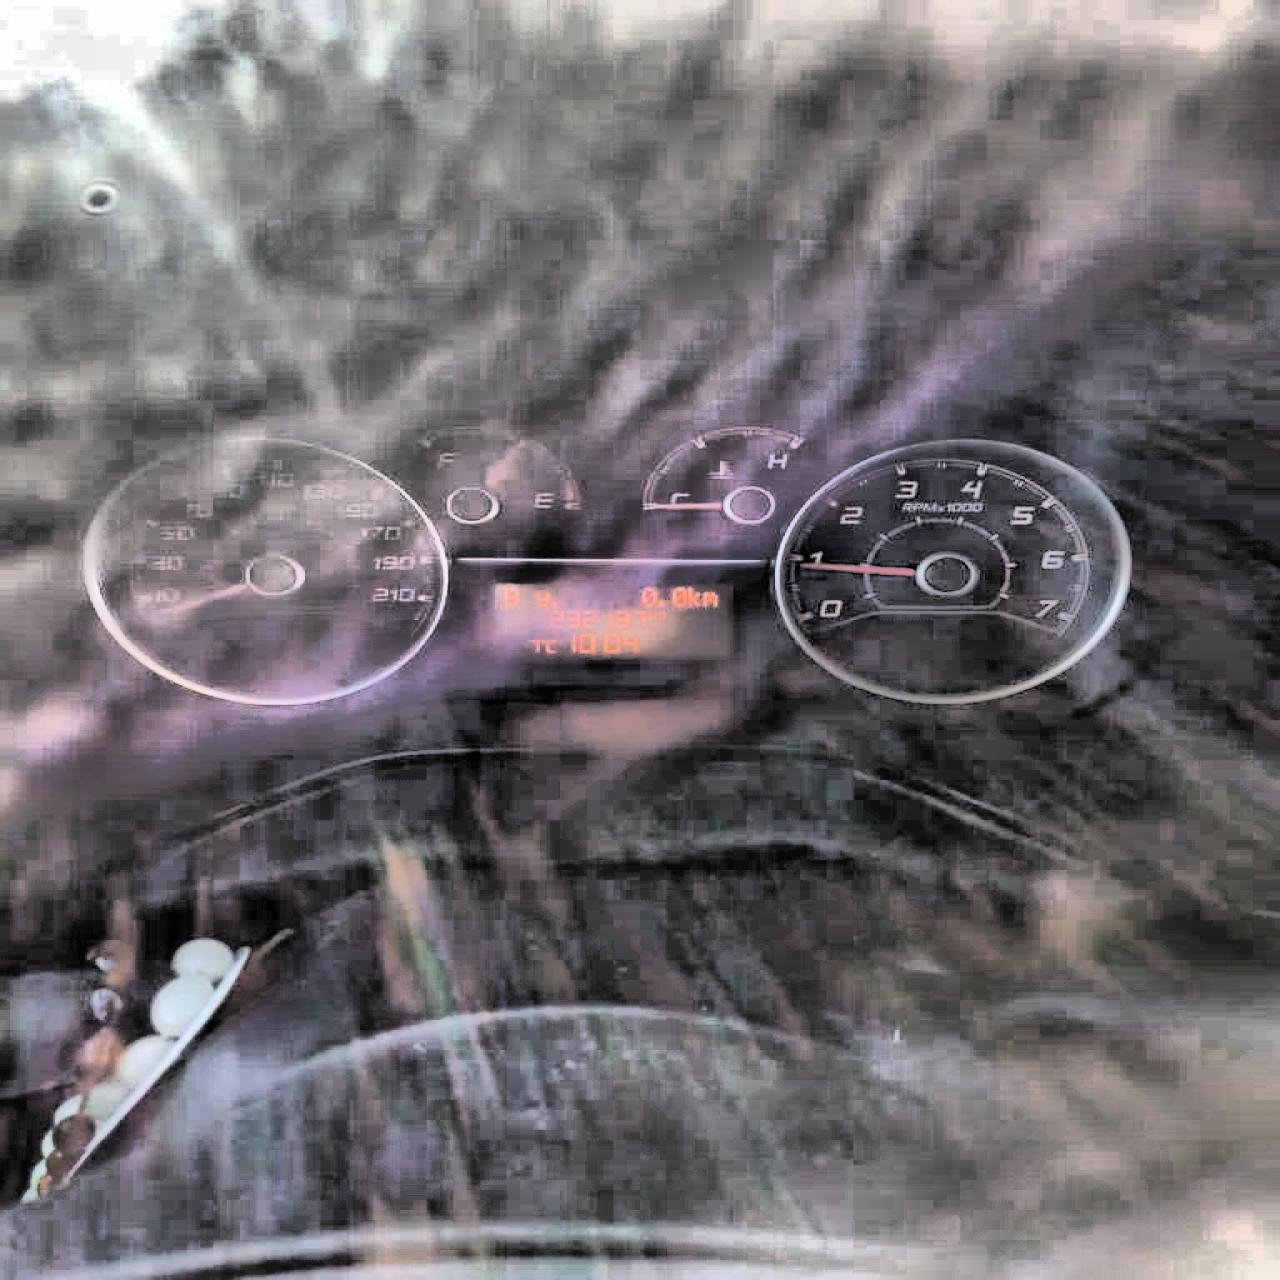-: (656, 598, 666, 607), (549, 599, 557, 607)
0: (577, 632, 595, 653), (670, 586, 687, 607), (601, 633, 618, 653), (640, 586, 655, 606)
1: (568, 633, 577, 653), (604, 608, 612, 627)
2: (546, 608, 564, 627), (581, 611, 598, 628)
3: (613, 607, 628, 627), (565, 608, 580, 627)
4: (620, 633, 640, 653)
7: (629, 607, 645, 627), (526, 636, 538, 654)
X: (502, 585, 518, 606), (687, 586, 701, 606), (701, 590, 716, 606), (533, 590, 549, 606), (545, 638, 558, 654), (653, 610, 665, 620), (645, 610, 653, 619)
odometer: (485, 578, 738, 662)
